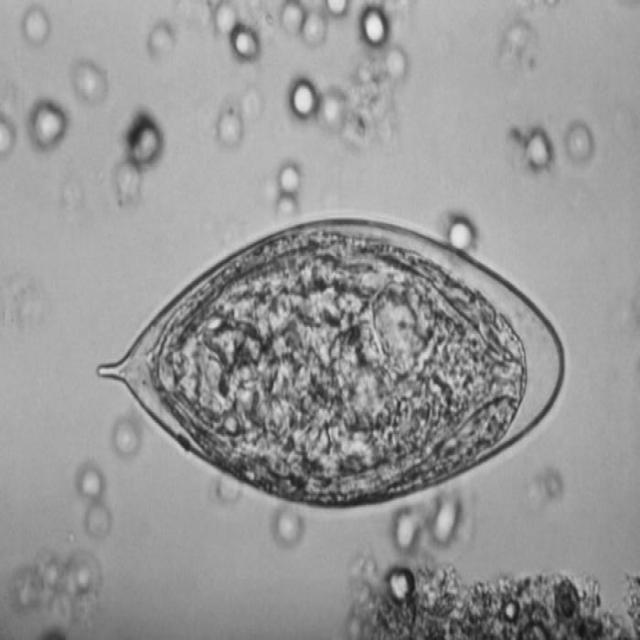Schistosoma: (90, 200, 569, 516)
